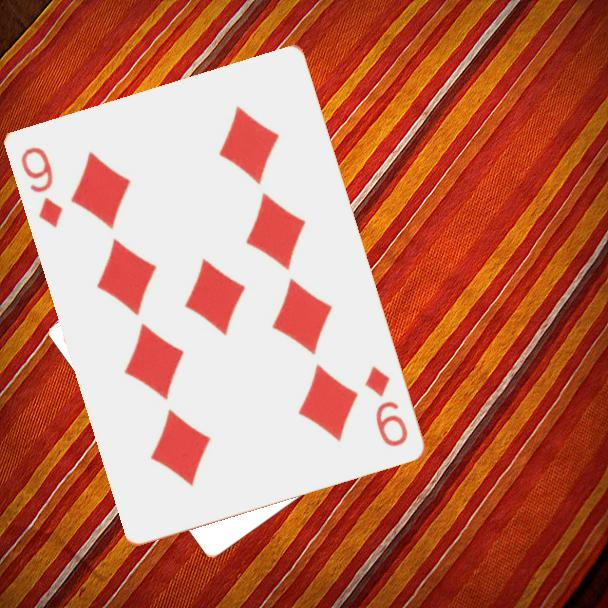d09: (361, 363, 412, 450), (18, 143, 66, 231)
